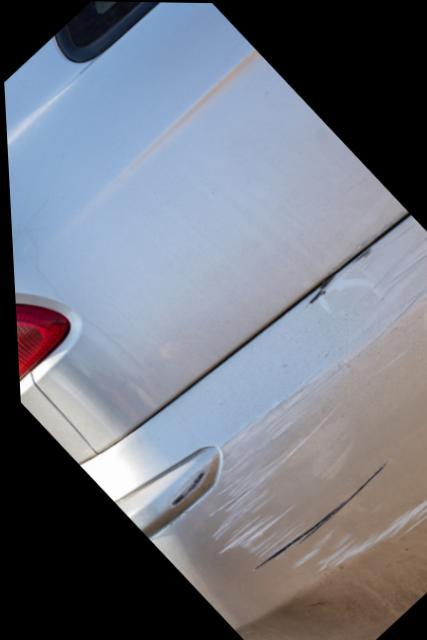scratch: (162, 224, 427, 592)
